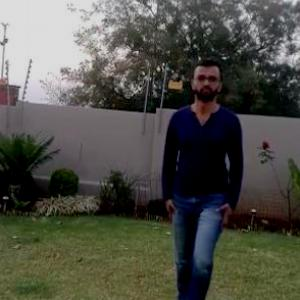follow: (161, 67, 239, 299)
